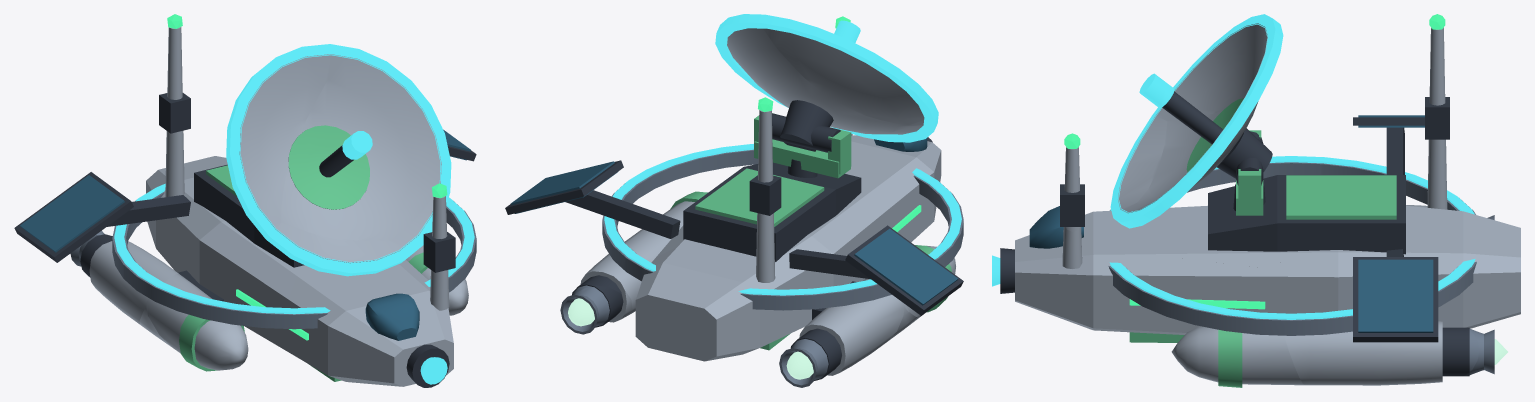
The model's file is signal_booster_wreck.glb.
3 renders of one model, left to right at view 1: azimuth 30°, elevation 25°; view 2: azimuth 150°, elevation 25°; view 3: azimuth 270°, elevation 25°, orthographic. The views are drawn at different scales.
Parts seen in each view (by area): view 1: signal_booster_wreck_02, signal_booster_wreck_03, signal_booster_wreck_01, signal_booster_wreck_09, signal_booster_wreck_04, signal_booster_wreck_10, signal_booster_wreck_08, signal_booster_wreck_06, signal_booster_wreck_05, signal_booster_wreck_07, signal_booster_wreck_00; view 2: signal_booster_wreck_01, signal_booster_wreck_07, signal_booster_wreck_02, signal_booster_wreck_00, signal_booster_wreck_09, signal_booster_wreck_03, signal_booster_wreck_10, signal_booster_wreck_04, signal_booster_wreck_06, signal_booster_wreck_05, signal_booster_wreck_08; view 3: signal_booster_wreck_00, signal_booster_wreck_02, signal_booster_wreck_06, signal_booster_wreck_03, signal_booster_wreck_07, signal_booster_wreck_01, signal_booster_wreck_09, signal_booster_wreck_08, signal_booster_wreck_05, signal_booster_wreck_04, signal_booster_wreck_10.
Part boxes in pixels (x1=…): signal_booster_wreck_02: x1=281, y1=47, x2=451, y2=273; signal_booster_wreck_03: x1=271, y1=222, x2=453, y2=387; signal_booster_wreck_01: x1=14, y1=119, x2=236, y2=324; signal_booster_wreck_09: x1=226, y1=44, x2=346, y2=223; signal_booster_wreck_04: x1=124, y1=213, x2=298, y2=371; signal_booster_wreck_10: x1=139, y1=195, x2=321, y2=372; signal_booster_wreck_08: x1=346, y1=131, x2=455, y2=270; signal_booster_wreck_06: x1=400, y1=205, x2=476, y2=315; signal_booster_wreck_05: x1=159, y1=14, x2=190, y2=129; signal_booster_wreck_07: x1=146, y1=156, x2=227, y2=249; signal_booster_wreck_00: x1=443, y1=129, x2=476, y2=215; signal_booster_wreck_01: x1=729, y1=200, x2=963, y2=387; signal_booster_wreck_07: x1=560, y1=218, x2=768, y2=361; signal_booster_wreck_02: x1=715, y1=14, x2=908, y2=202; signal_booster_wreck_00: x1=505, y1=160, x2=749, y2=315; signal_booster_wreck_09: x1=751, y1=14, x2=938, y2=124; signal_booster_wreck_03: x1=830, y1=125, x2=947, y2=242; signal_booster_wreck_10: x1=768, y1=187, x2=920, y2=350; signal_booster_wreck_04: x1=869, y1=115, x2=963, y2=316; signal_booster_wreck_06: x1=639, y1=144, x2=758, y2=217; signal_booster_wreck_05: x1=749, y1=97, x2=781, y2=212; signal_booster_wreck_08: x1=766, y1=16, x2=860, y2=107; signal_booster_wreck_00: x1=1271, y1=196, x2=1479, y2=385; signal_booster_wreck_02: x1=1137, y1=59, x2=1360, y2=269; signal_booster_wreck_06: x1=1082, y1=254, x2=1304, y2=387; signal_booster_wreck_03: x1=992, y1=113, x2=1193, y2=330; signal_booster_wreck_07: x1=1398, y1=199, x2=1520, y2=376; signal_booster_wreck_01: x1=1320, y1=115, x2=1494, y2=223; signal_booster_wreck_09: x1=1162, y1=14, x2=1283, y2=120; signal_booster_wreck_08: x1=1060, y1=73, x2=1165, y2=231; signal_booster_wreck_05: x1=1425, y1=14, x2=1449, y2=139; signal_booster_wreck_04: x1=1151, y1=107, x2=1321, y2=208; signal_booster_wreck_10: x1=1195, y1=175, x2=1360, y2=211.
Bounding box in the file's own units: 4.98 × 3.14 × 5.07.
